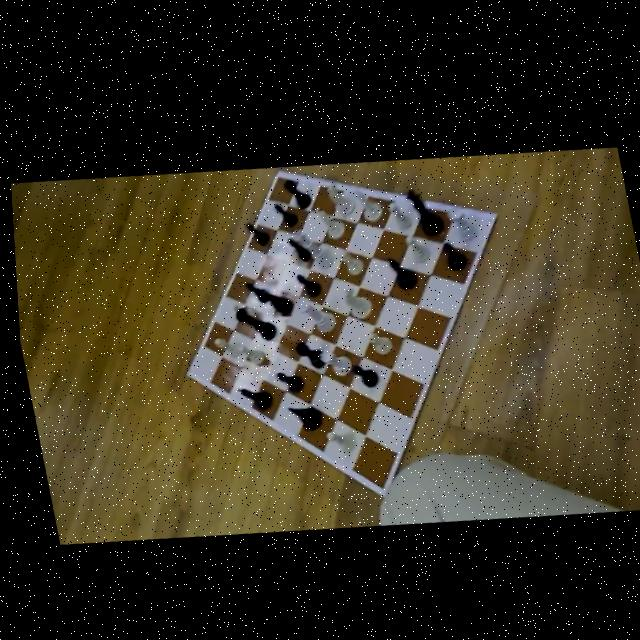chessboard-corner: (179, 366, 187, 375), (375, 488, 382, 495), (491, 202, 498, 209), (274, 164, 280, 169)
